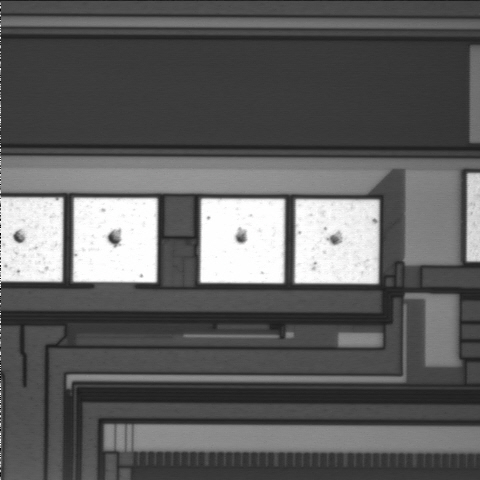pad: (73, 198, 158, 283), (200, 198, 285, 283), (294, 199, 379, 284)
